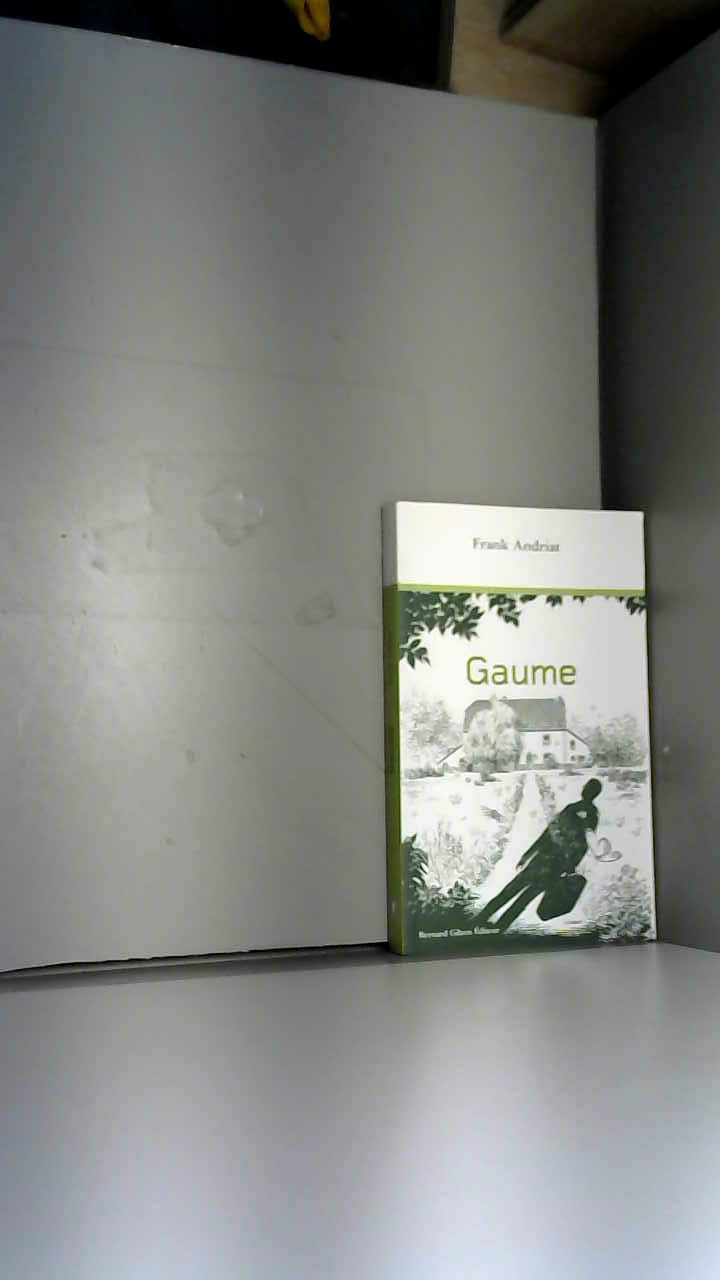book: (343, 456, 702, 996)
